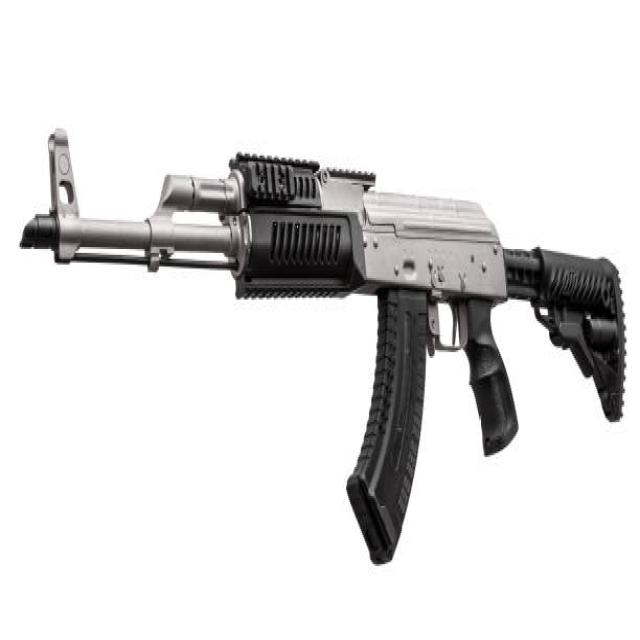rifle: (19, 117, 628, 583)
